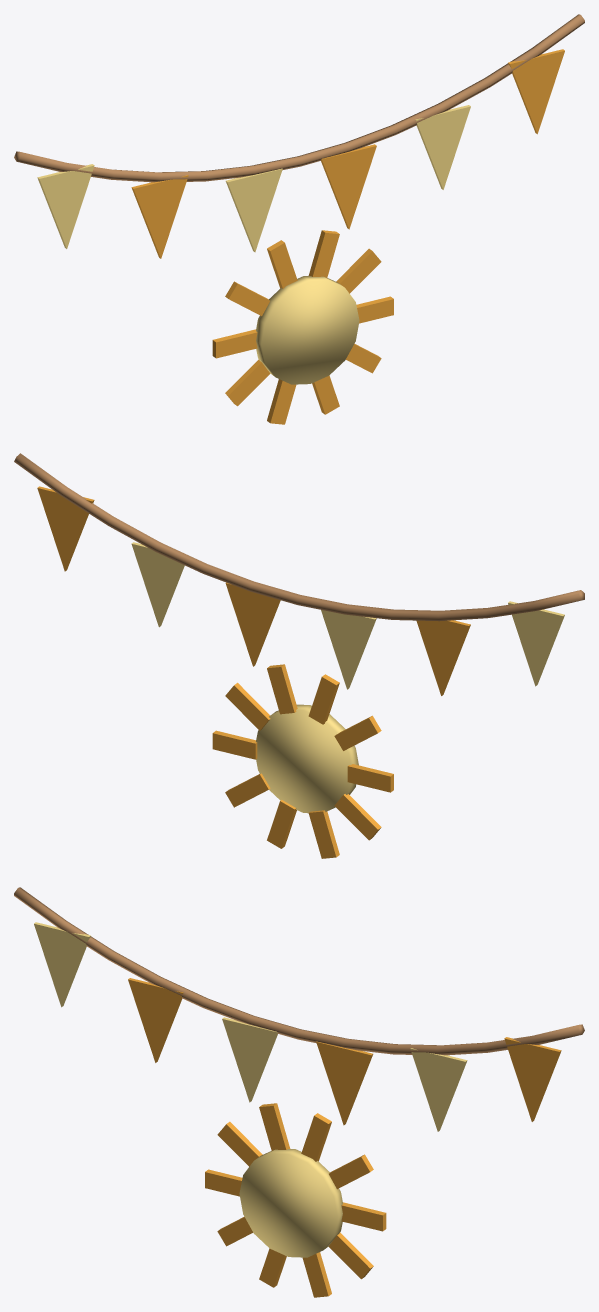
File: bunting.glb
3 renders of one model, top to bottom at view 1: azimuth 30°, elevation 25°; view 2: azimuth 150°, elevation 25°; view 3: azimuth 330°, elevation 25°, orthographic.
Parts seen in each view (by area): view 1: bunting; view 2: bunting; view 3: bunting.
Part boxes in pixels (x1,y1,x2,y2): bunting: (14,14,584,424); bunting: (14,453,584,858); bunting: (14,887,584,1297).
Size of the model in its own units: 0.9263 by 0.5187 by 0.0365.
